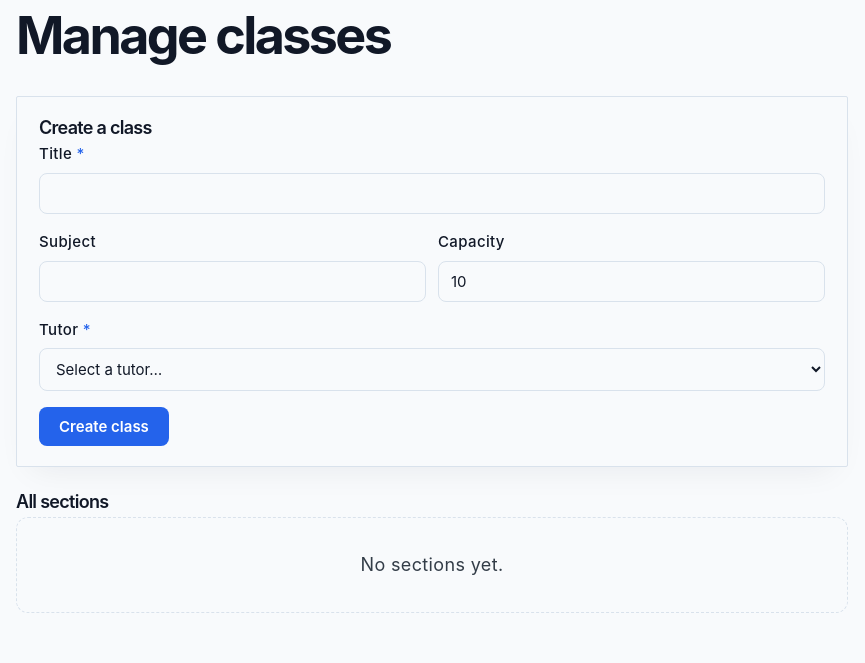
it: ClassesAdmin › validates that title and tutor are required before inserting
This screenshot has width=865, height=663.
Expected: the text "No sections yet." is shown, [16,517,848,613]
Click the button "Create class" at (104, 427), box [39,407,169,446]
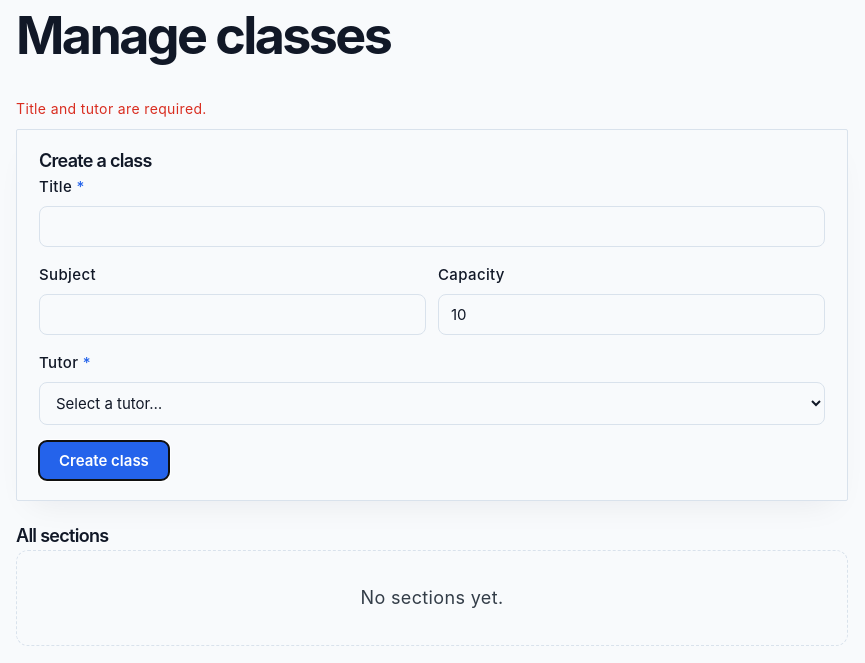
Expected: the text "Title and tutor are required." is shown, [16,100,207,117]
